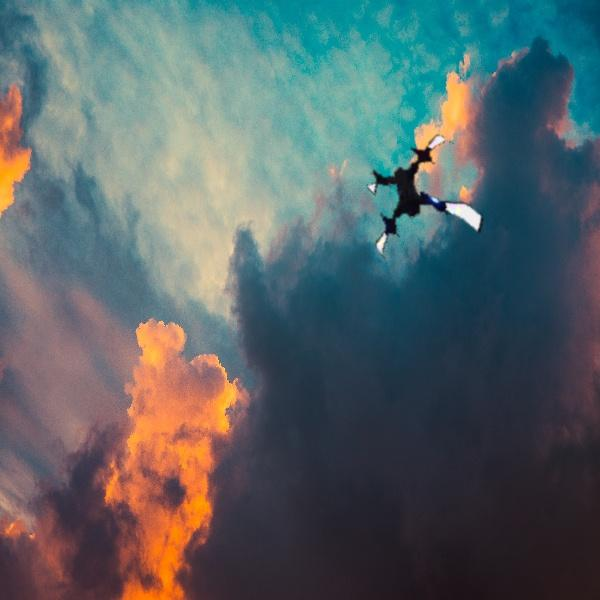drone: (355, 139, 497, 281)
